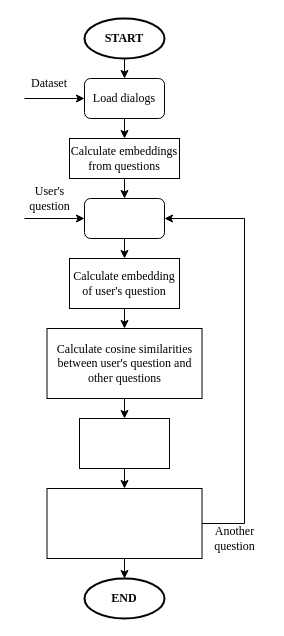
Some shapes in this 284 by 636 pixel diagram are drawn without their labels. Here are the shapes that lost their labels. From the top down, the centre of each, then its label:
At pixel 124 218: "User input".
At pixel 124 443: "Find the most similar question".
At pixel 124 523: "Return respond for the most similar question (from the dataset)".
